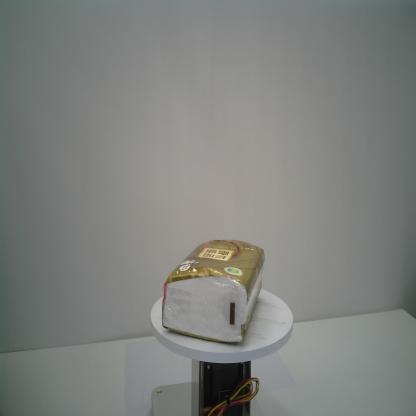Tissue: (162, 238, 265, 343)
